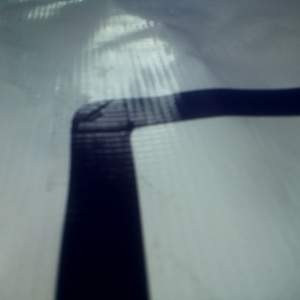bottom_left: (1, 70, 54, 117)
bottom_right: (41, 62, 134, 97)
top_left: (1, 46, 33, 80)
